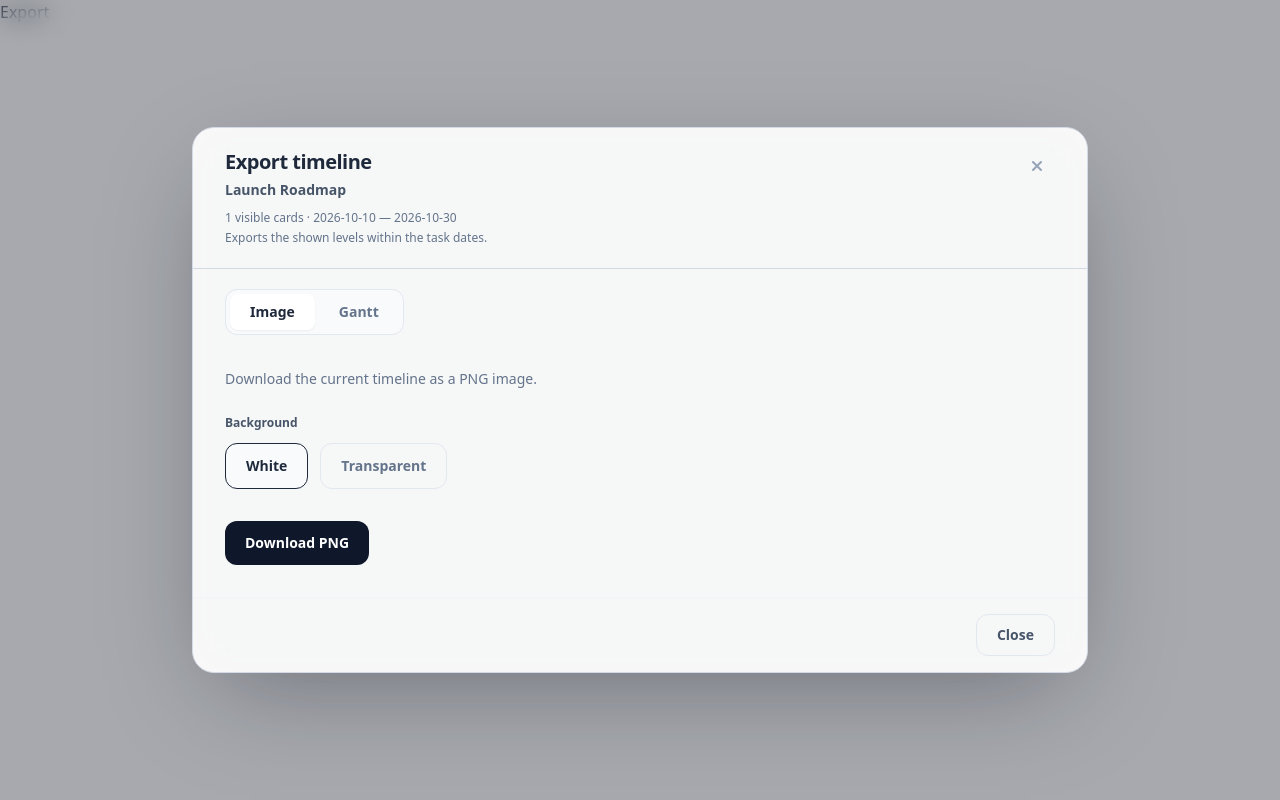
Scenario: timeline export dialog › keeps a failed PNG export in the dialog and allows another attempt
Click the button "Download PNG": (297, 543) [225,521,369,565]
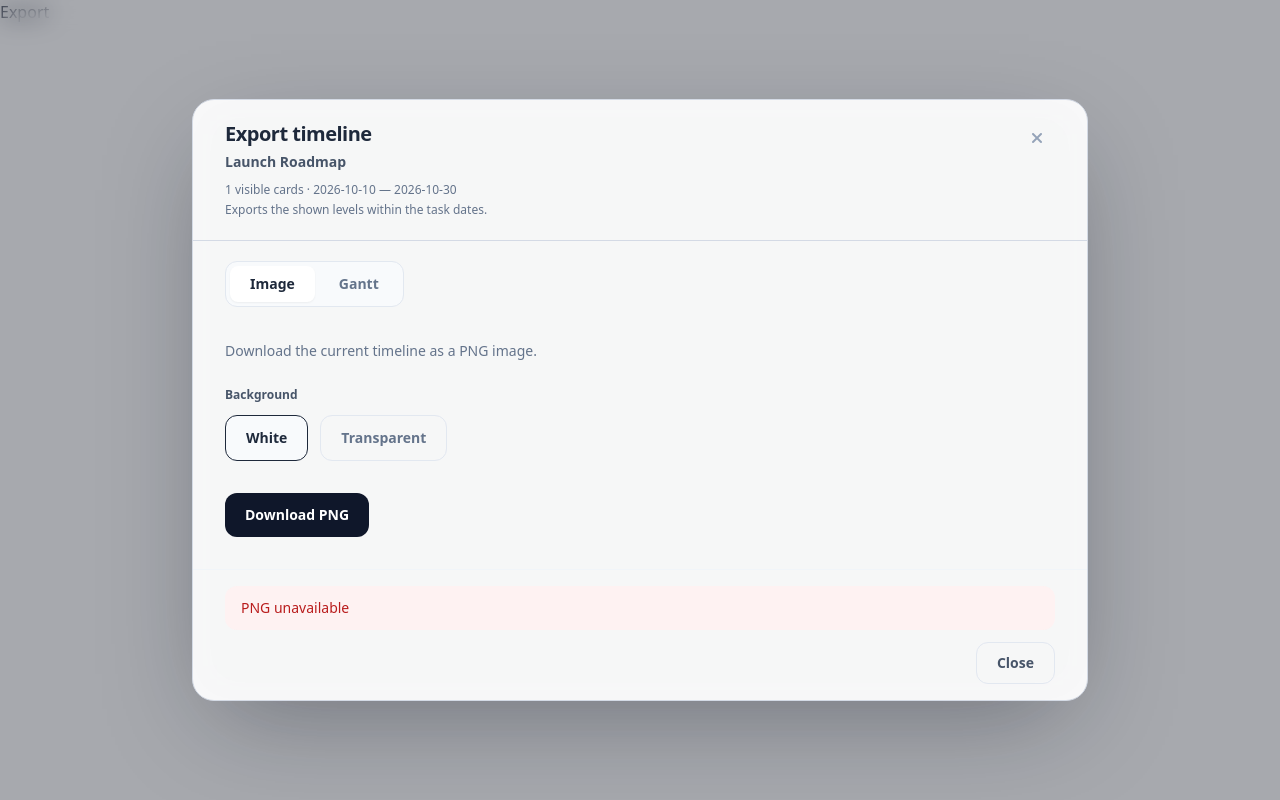
Now the message "PNG unavailable" is shown, box [225,586,1055,630]
Click the button "Download PNG": (297, 515) [225,493,369,537]
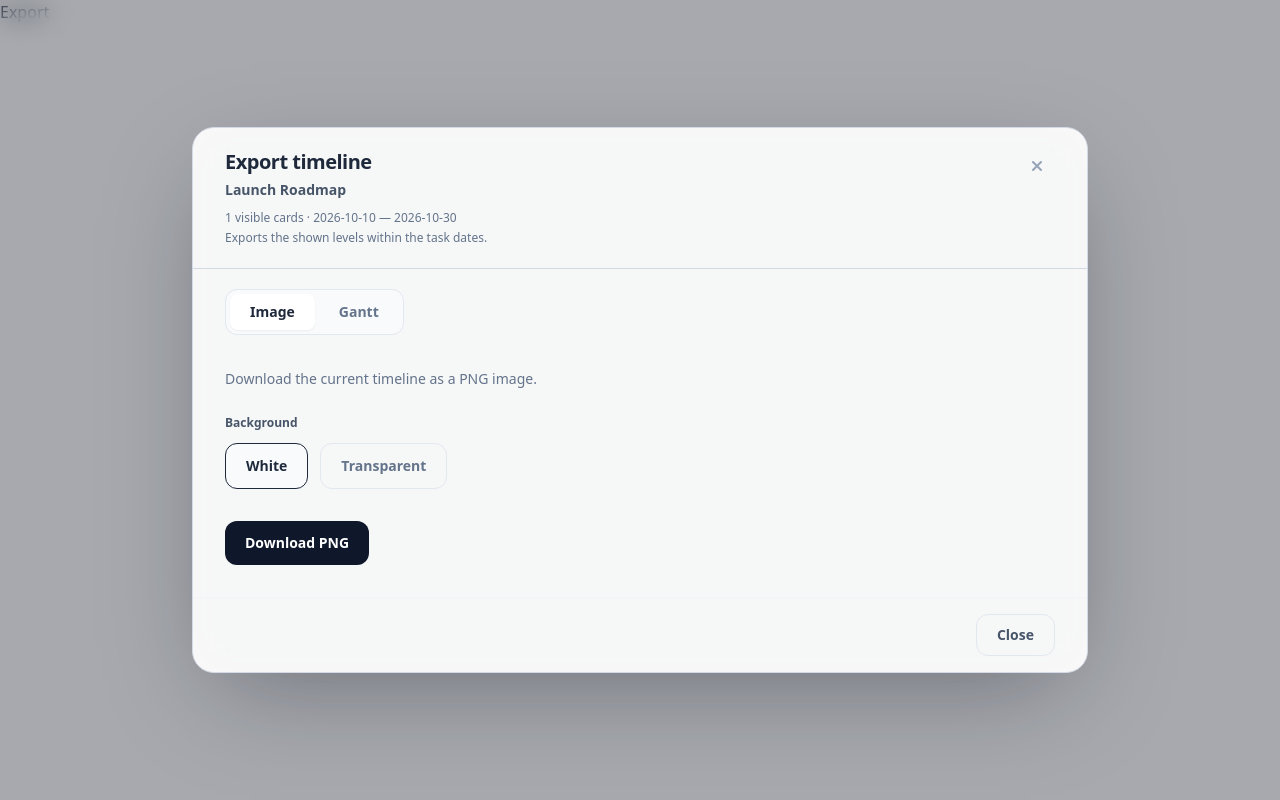
Now the message "PNG unavailable" is gone
